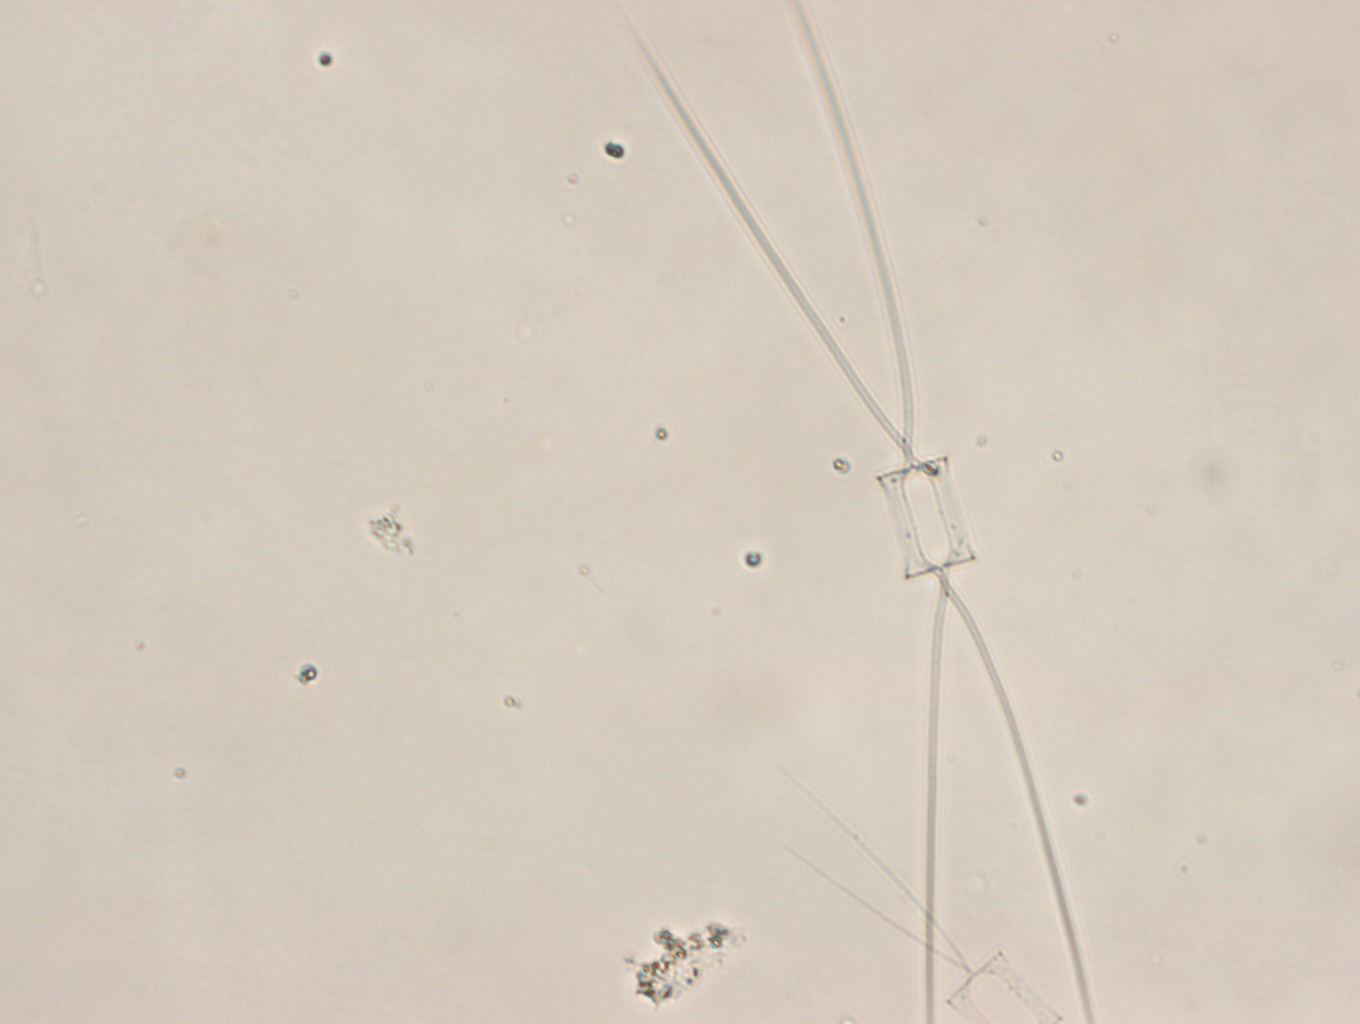chaetoceros: (615, 1, 1096, 1024), (777, 760, 1062, 1024)
